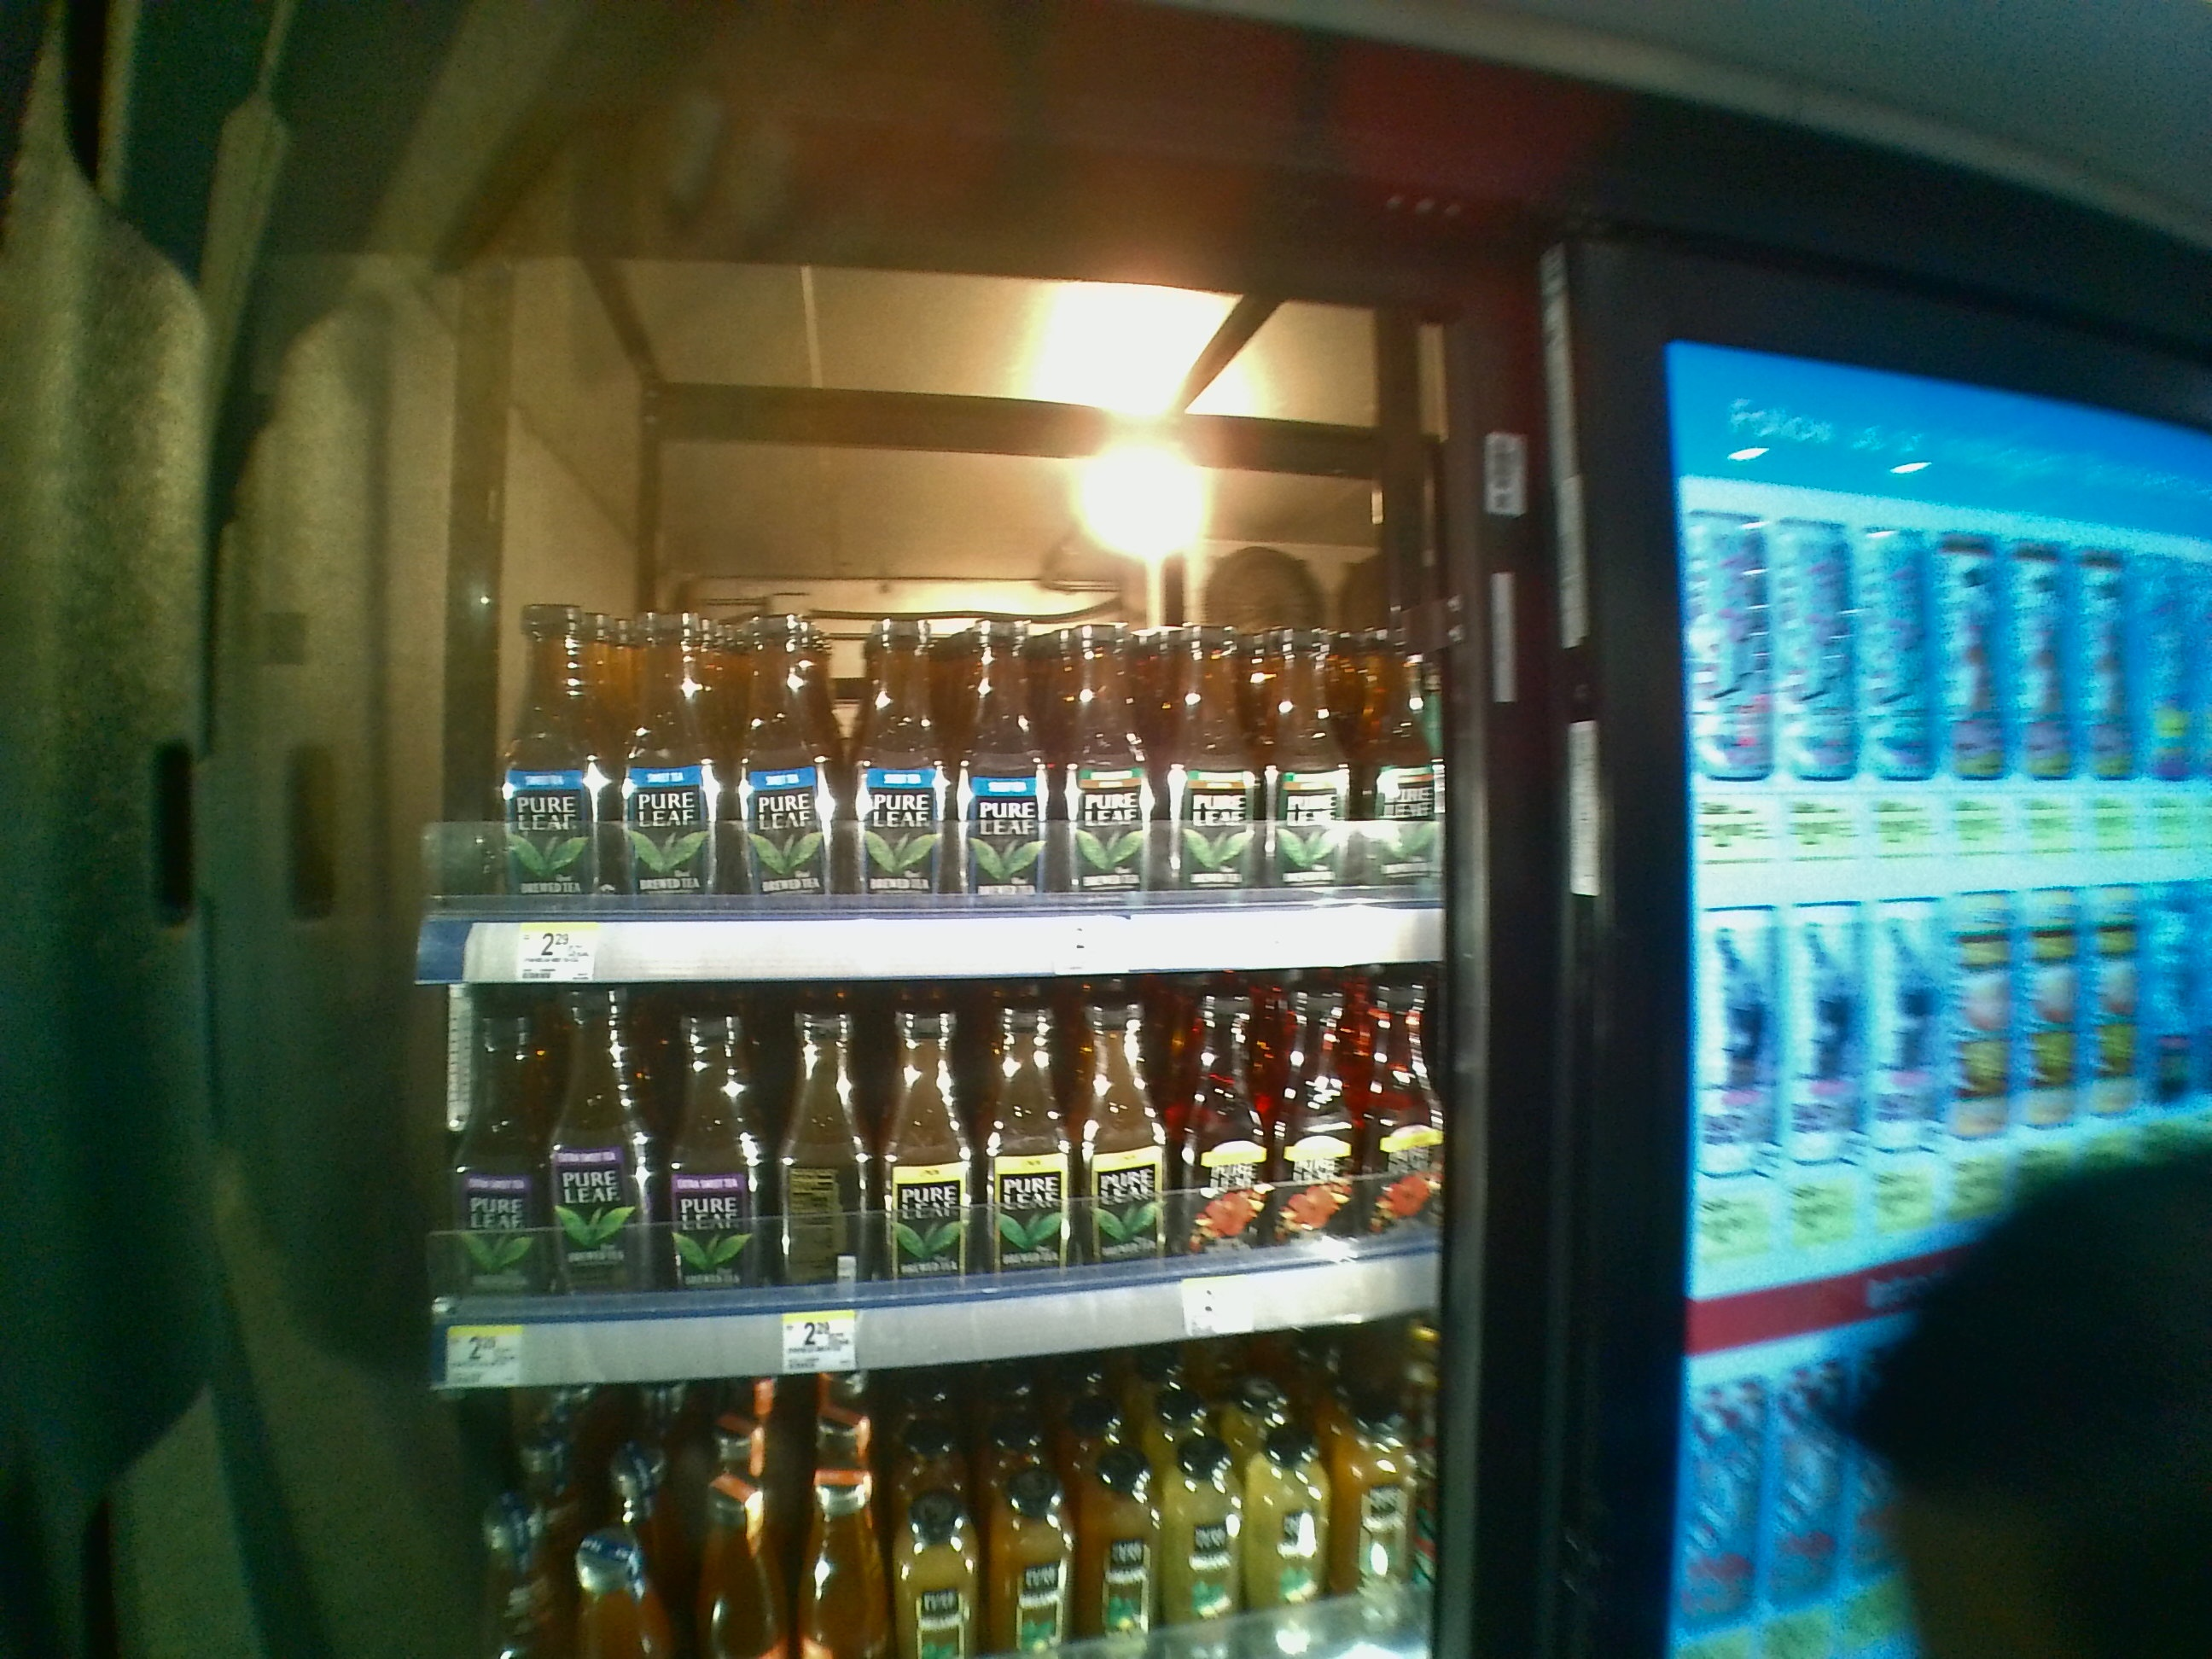shelf: (415, 387, 1447, 978), (411, 988, 1458, 1385)
